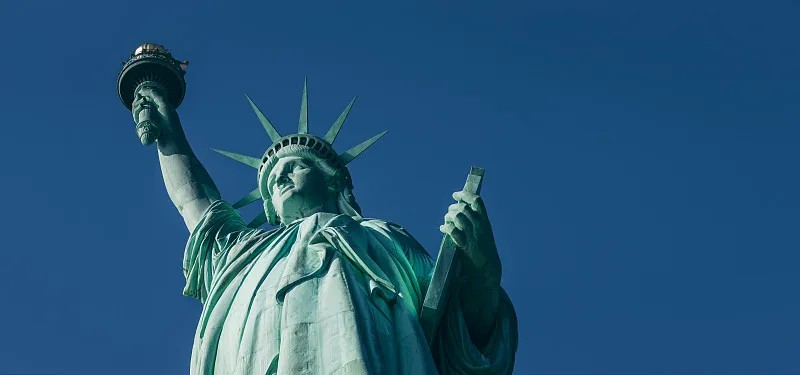SL: (117, 42, 519, 375)
